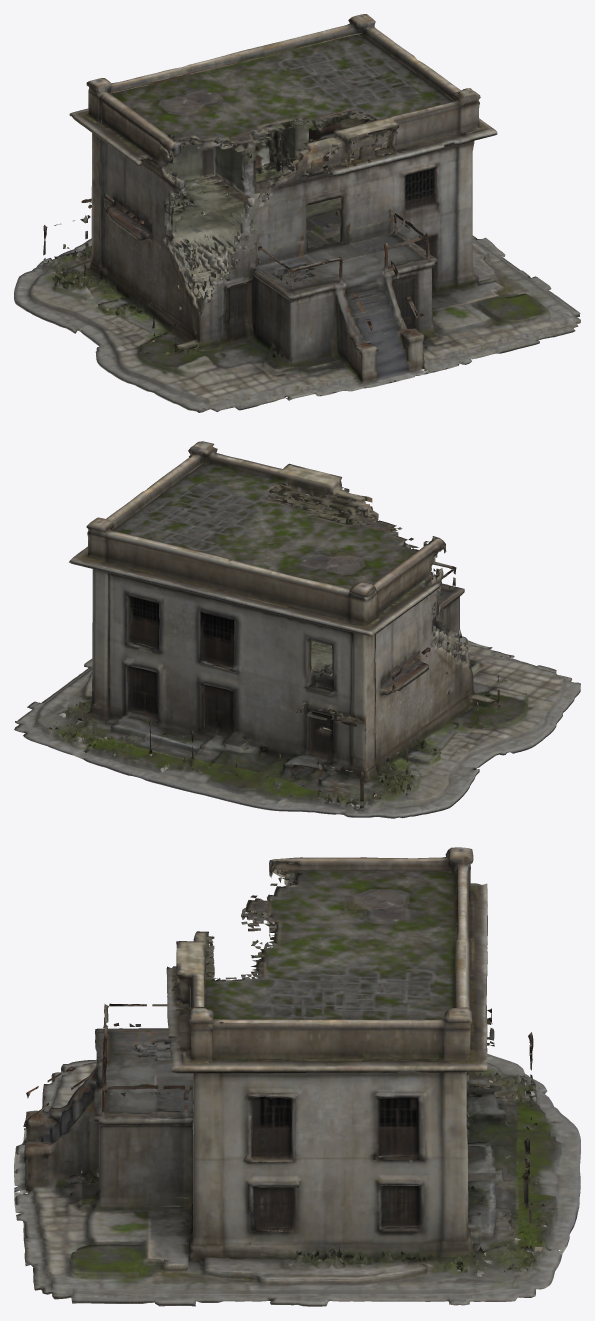
File: Generate_a_high_quali_0423154857.fbx
The picture shows the model from 3 angles, top to bottom: view 1: azimuth 30°, elevation 25°; view 2: azimuth 150°, elevation 25°; view 3: azimuth 270°, elevation 25°; orthographic projection. The views are drawn at different scales.
Visible parts, largest first — view 1: Mesh_0; view 2: Mesh_0; view 3: Mesh_0.
Part boxes in pixels (x1=…): Mesh_0: x1=14, y1=14, x2=580, y2=412; Mesh_0: x1=14, y1=441, x2=580, y2=818; Mesh_0: x1=14, y1=847, x2=580, y2=1306.
Bounding box in the file's own units: 200 × 92.95 × 187.
Materials: 1 (1 with a texture image).
